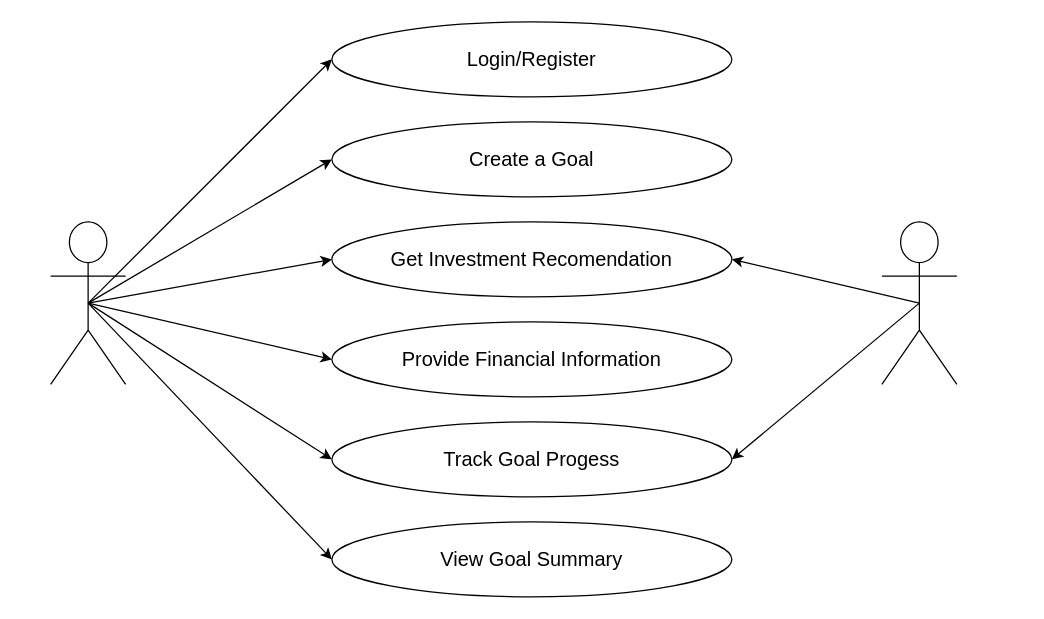
Image size: 1044x619. Some labels were removed from this diagram. The centre of each missing label's shape, as x and y in pixels:
Recomendation Engine: pixel 919 302
User (Investor): pixel 87 302
